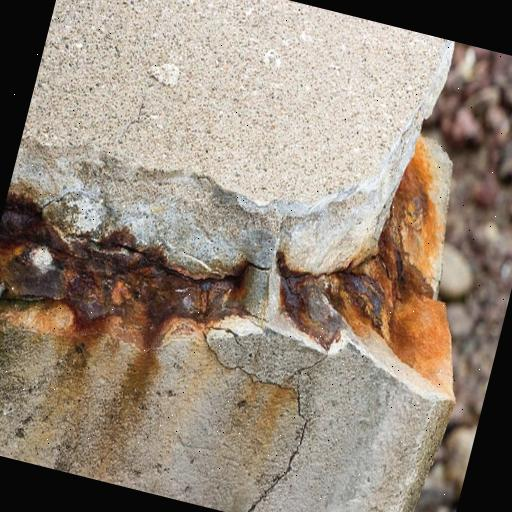spalling: (0, 44, 453, 401)
